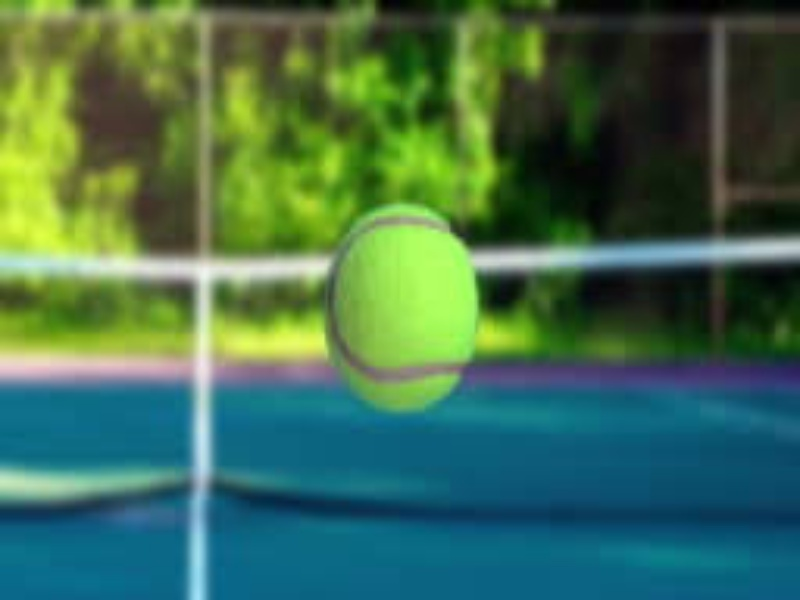tennis ball: (311, 191, 499, 433)
